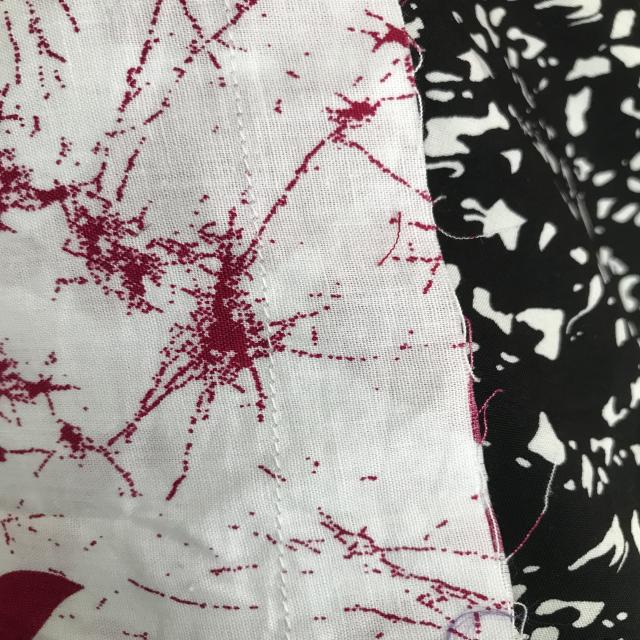good: (264, 509, 310, 613), (214, 94, 265, 177), (258, 388, 290, 488)
